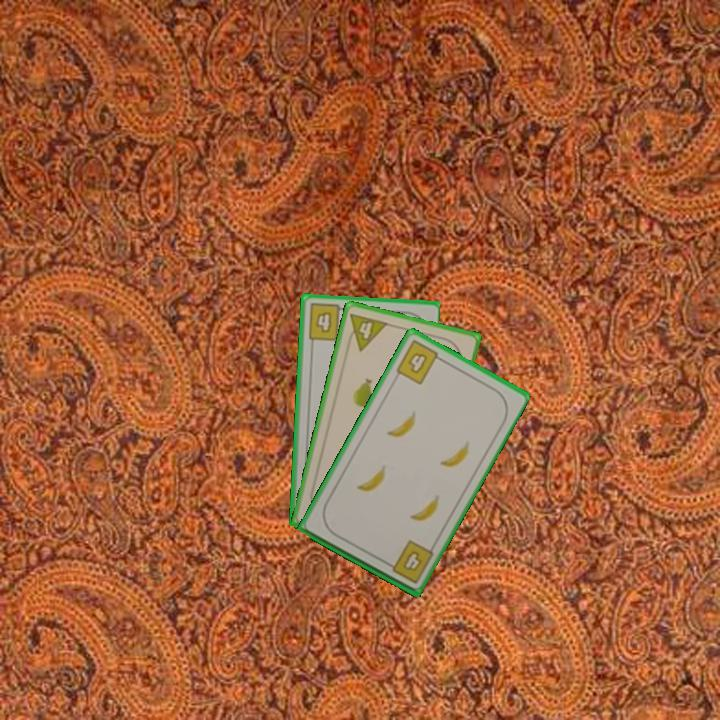4b: (392, 336, 447, 387), (381, 536, 436, 586), (305, 300, 349, 343)
4p: (343, 309, 391, 354)
